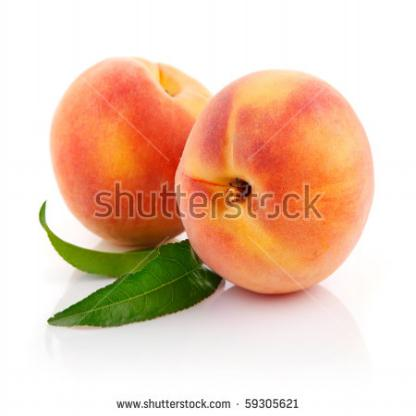Peach leaf: (46, 247, 224, 329), (37, 194, 154, 285)
